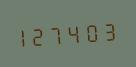four: (69, 19, 85, 45)
one: (17, 23, 33, 49)
seven: (52, 21, 68, 46)
three: (103, 17, 119, 43)
two: (34, 22, 50, 48)
zero: (86, 18, 102, 44)
